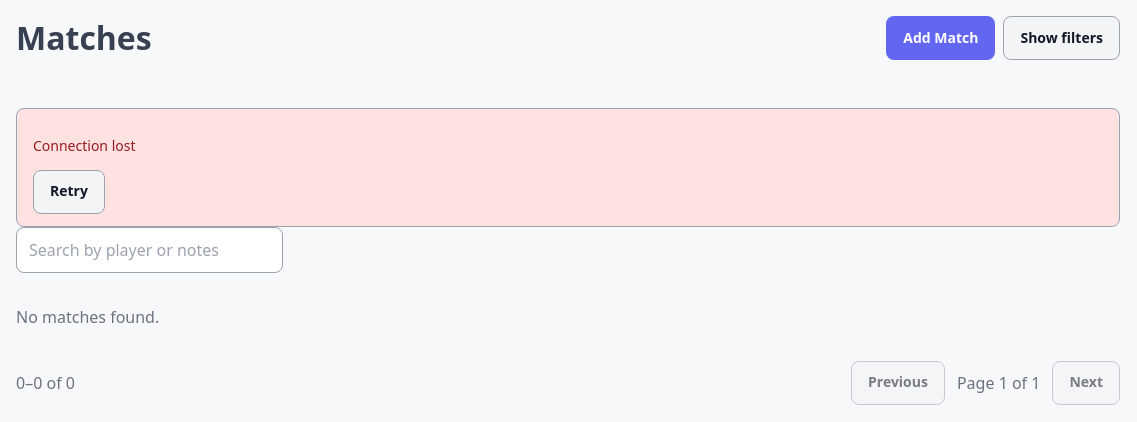
it: MatchesPage canonical match flows › keeps search visible and retries a failed list request
The width and height of the screenshot is (1137, 422).
Expected: the field named "Search matches" is shown, [16,227,283,273]
Expected: the message shows "Connection lost", [33,136,136,155]
Step 1. Click the button "Retry" → (69, 192), box [33,170,105,214]
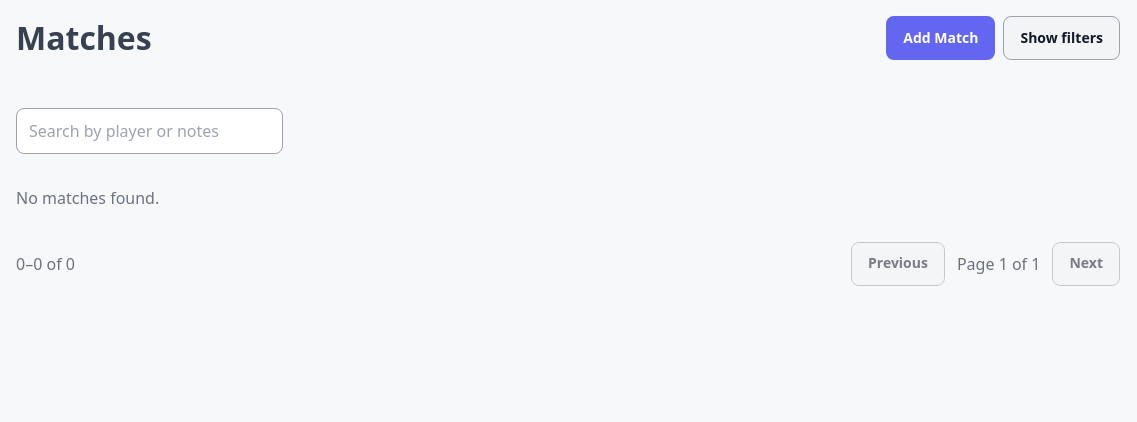
Now the message "Connection lost Retry" is gone
